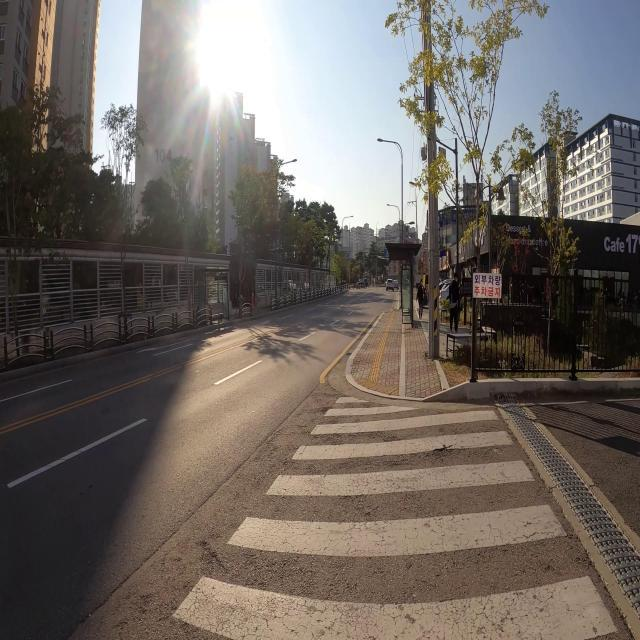crosswalk: (153, 394, 622, 640)
